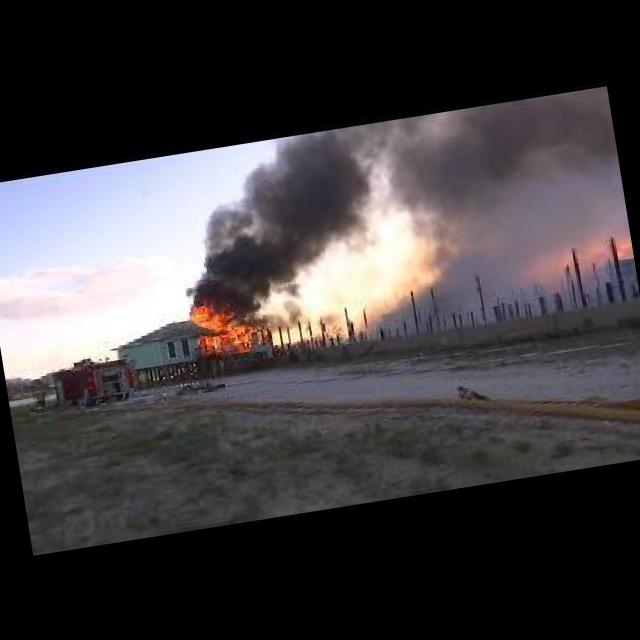Fire: (183, 288, 264, 360)
Smoke: (169, 117, 403, 312)
